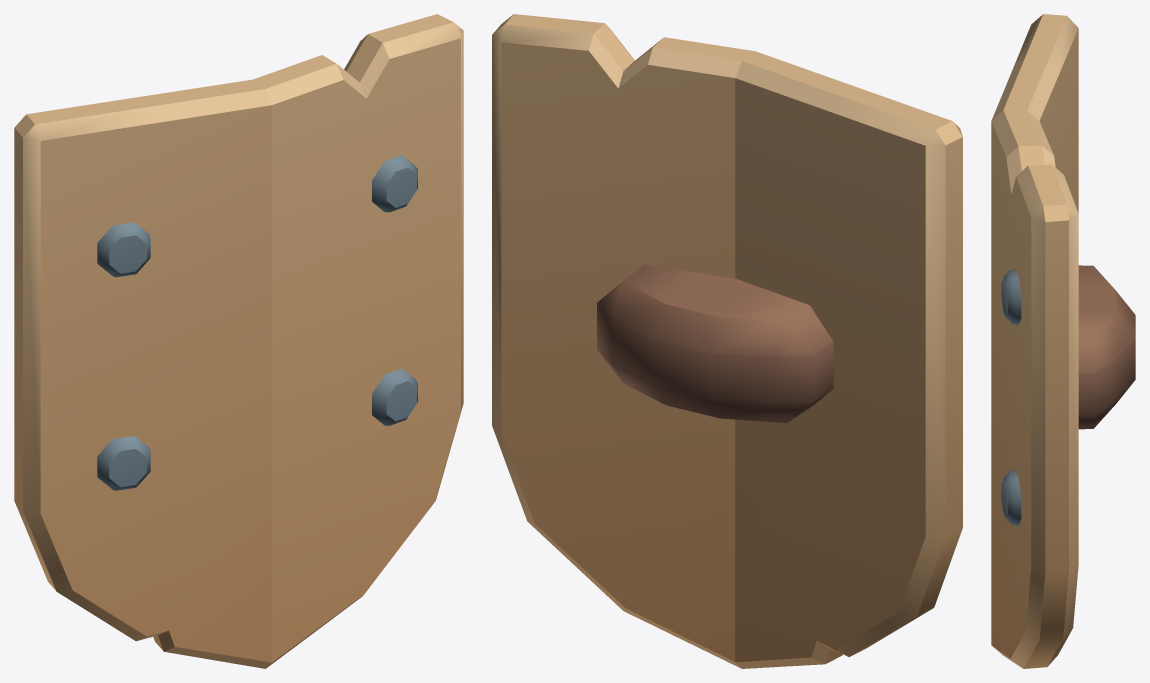
Rendered from shield_A.glb.
The picture shows the model from 3 angles, left to right: view 1: azimuth 30°, elevation 25°; view 2: azimuth 150°, elevation 25°; view 3: azimuth 270°, elevation 25°; orthographic projection. The views are drawn at different scales.
Visible parts, largest first — view 1: shield_A; view 2: shield_A; view 3: shield_A.
Part boxes in pixels (x1,y1,x2,y2): shield_A: (14,14,463,668); shield_A: (492,14,962,668); shield_A: (991,14,1135,668).
Size of the model in its own units: 0.7726 by 0.9799 by 0.233.
1 material, 1 textured.
